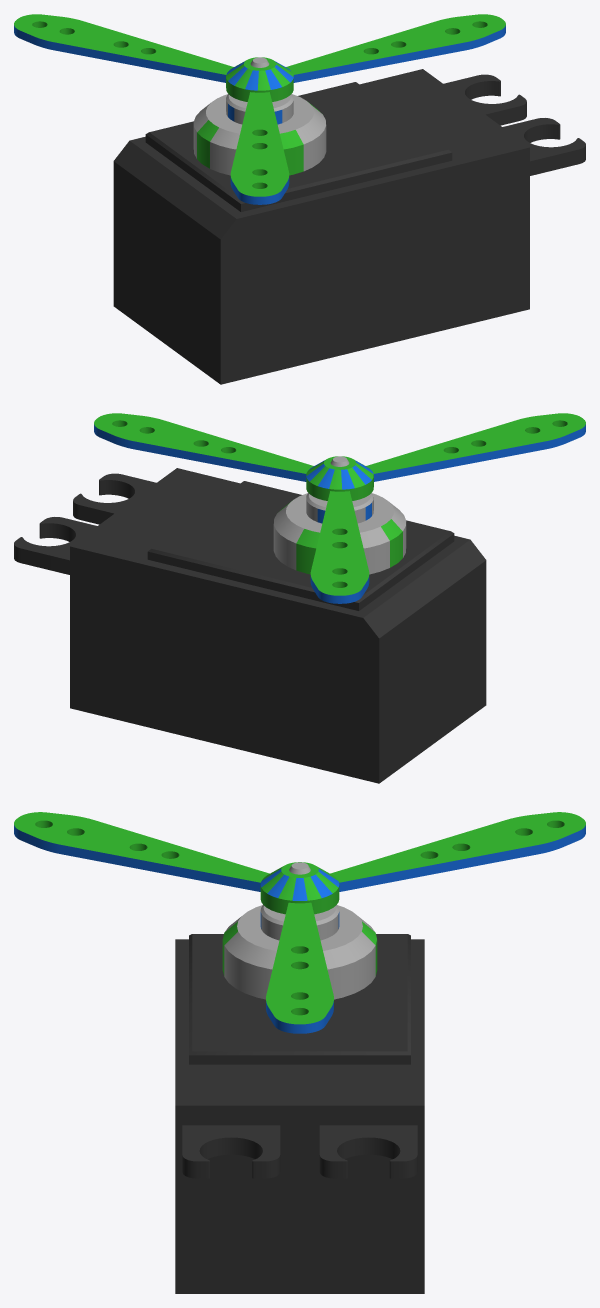
File: servo_motor_cp.gltf
The picture shows the model from 3 angles, top to bottom: view 1: azimuth 30°, elevation 25°; view 2: azimuth 150°, elevation 25°; view 3: azimuth 270°, elevation 25°; orthographic projection. The views are drawn at different scales.
Parts seen in each view (by area): view 1: body, wing; view 2: body, wing; view 3: body, wing.
Part boxes in pixels (<box>): body: <box>113,69,585,384</box>; wing: <box>14,14,505,204</box>; body: <box>14,468,486,783</box>; wing: <box>94,413,585,603</box>; body: <box>175,905,424,1293</box>; wing: <box>14,812,585,1033</box>.
Bounding box in the file's own units: 2.66 × 1.62 × 2.75.
